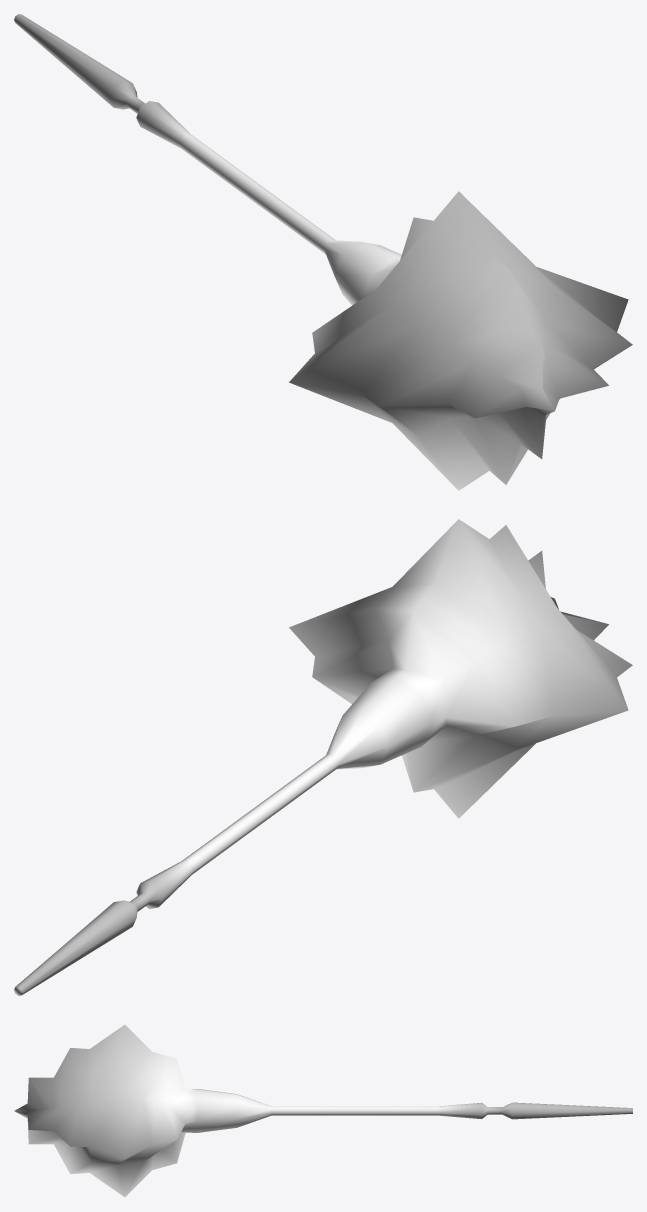
File: staff_bizarre.fbx
3 views of the same model, one above another, from view 1: azimuth 30°, elevation 25°; view 2: azimuth 150°, elevation 25°; view 3: azimuth 270°, elevation 25° (orthographic). The views are drawn at different scales.
Parts seen in each view (by area): view 1: staff_bizarre; view 2: staff_bizarre; view 3: staff_bizarre.
Boxes of the visible parts, x1,y1,x2,y2 form: staff_bizarre: (14, 14, 632, 490); staff_bizarre: (14, 519, 632, 995); staff_bizarre: (14, 1024, 632, 1197).
Bounding box in the file's own units: 87.92 × 74.13 × 240.
1 material, 1 textured.
